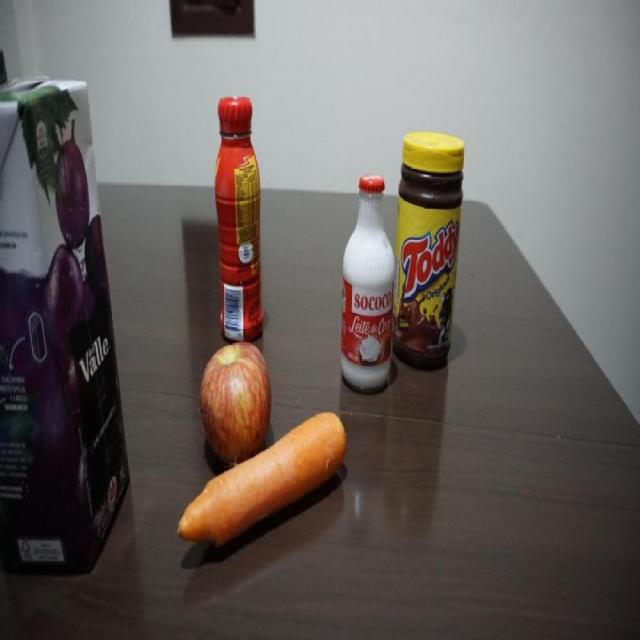Apple: (199, 337, 272, 442)
Carrot: (179, 442, 348, 542)
ChocolateMilk: (214, 95, 272, 337)
ChocolatePowder: (394, 132, 465, 371)
CoconutMilk: (340, 169, 394, 393)
